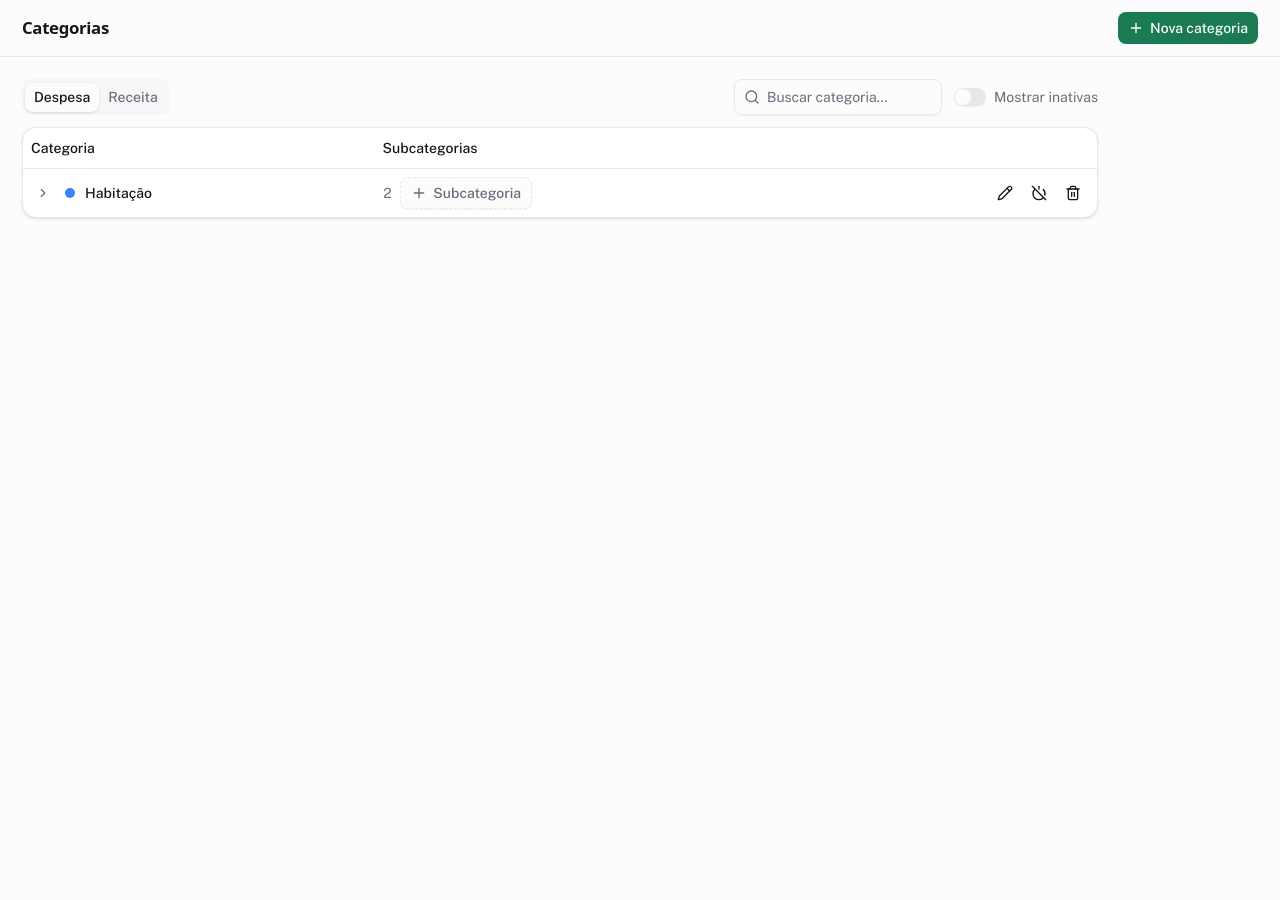
Test: CategoriesPage › cascades the inactive badge onto every subcategory when a root is deactivated
Click the button named "Desativar": (1039, 192) [1023,176,1055,208]
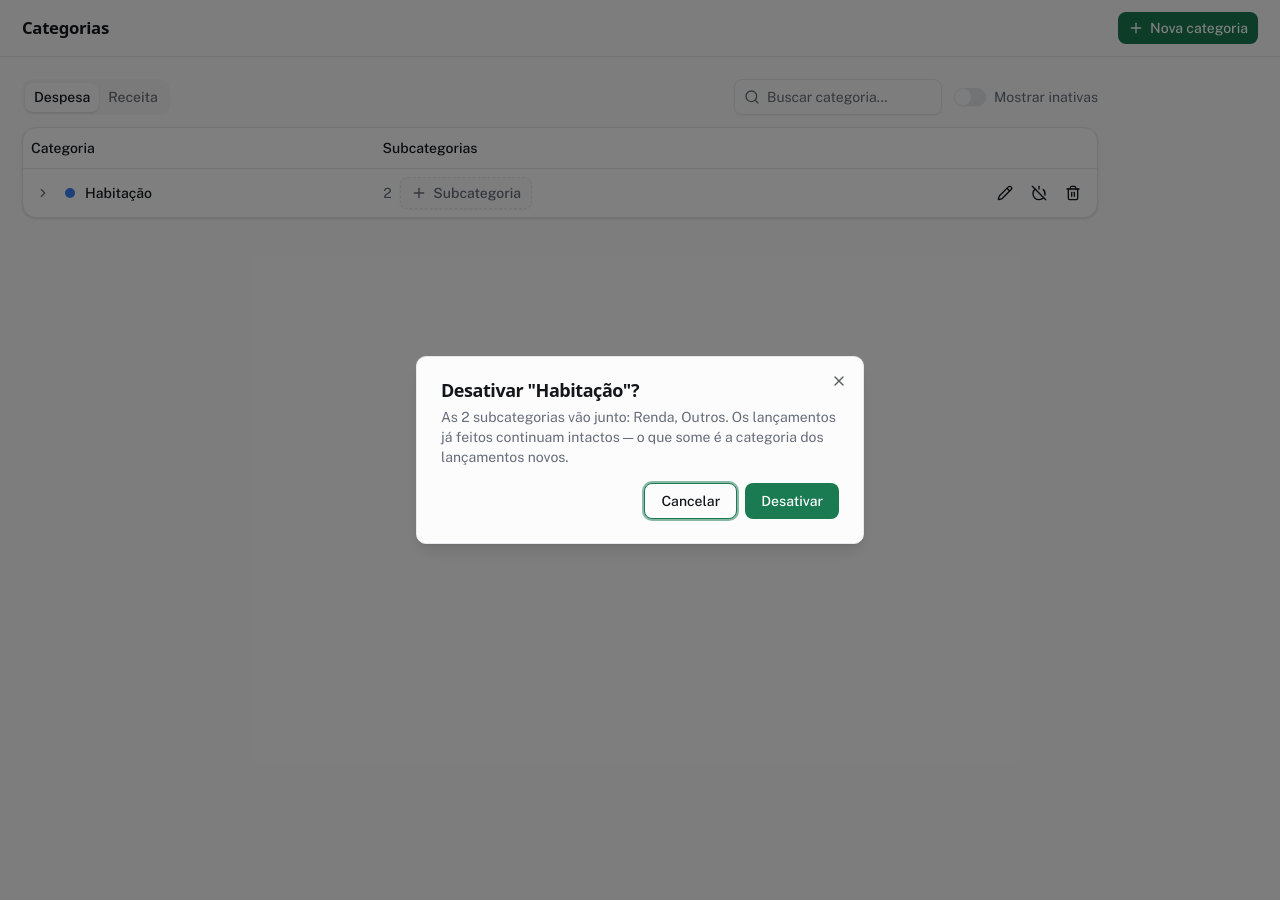
Click the button "Desativar": (792, 501) [745,483,839,519]
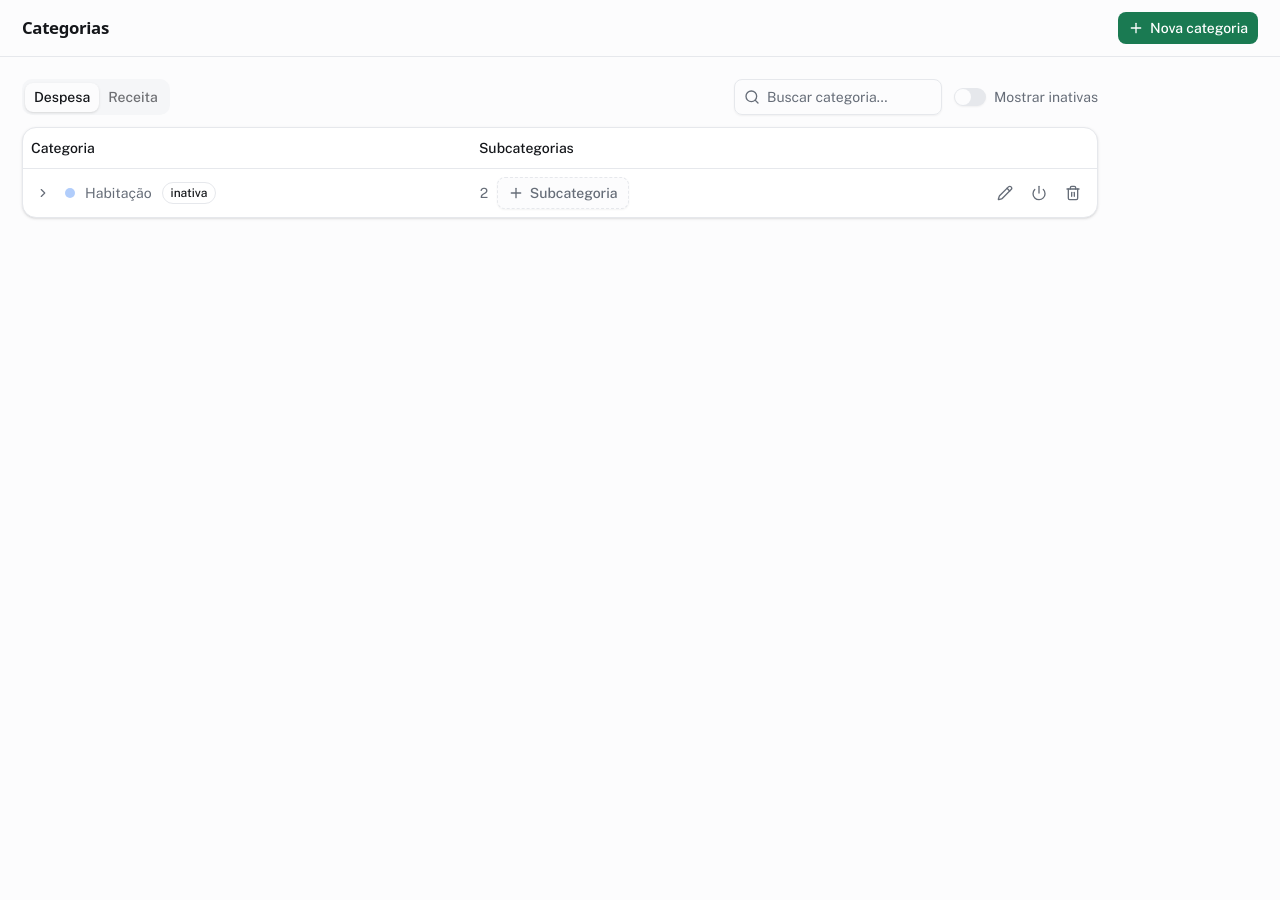
expect the text "inativa" is shown: met, box [162,182,216,204]
Click the button named "Expandir Habitação": (43, 192) [31,180,55,204]
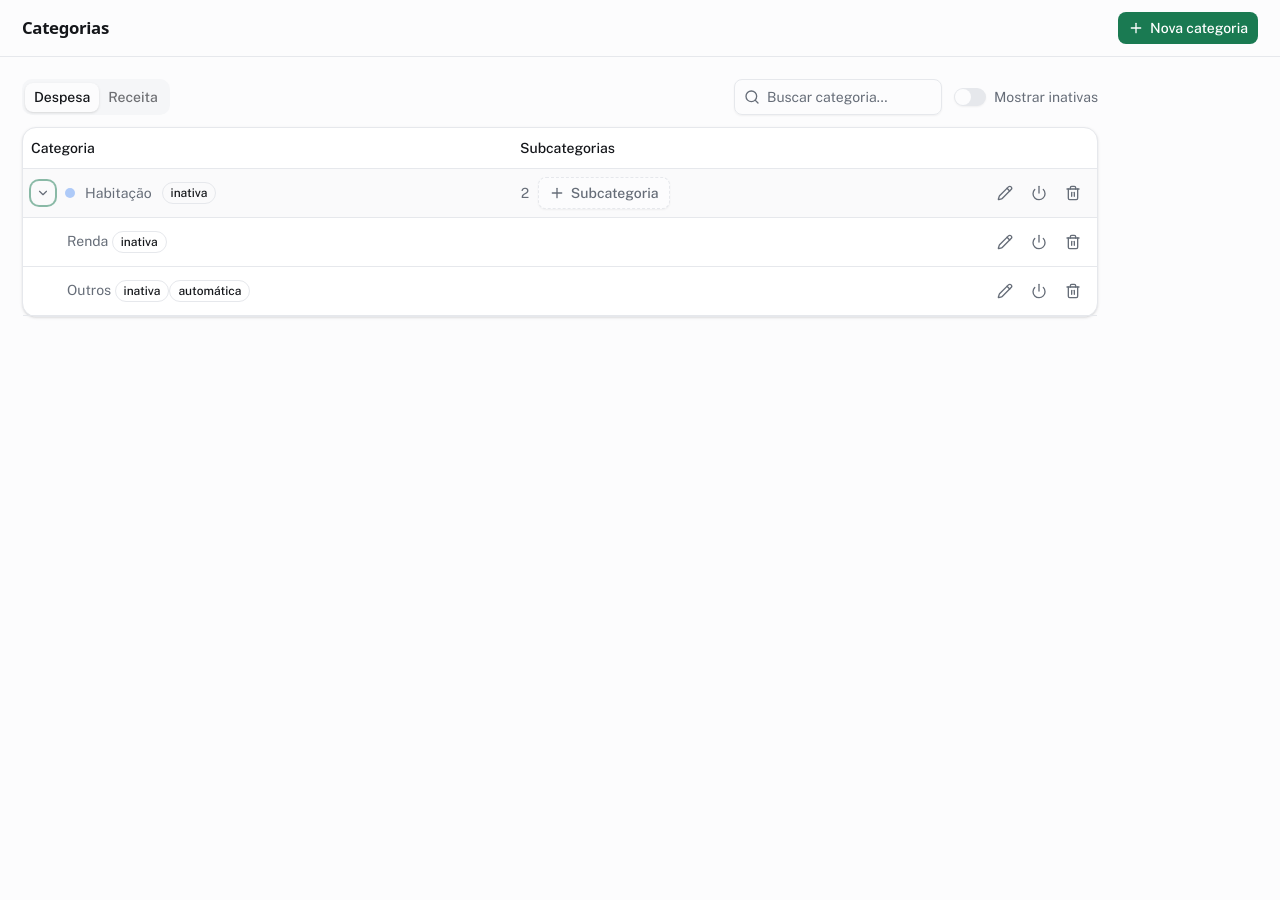
expect the text "inativa" is shown 3 times: met, box [162,182,216,204]; [112,230,167,252]; [114,280,169,302]
